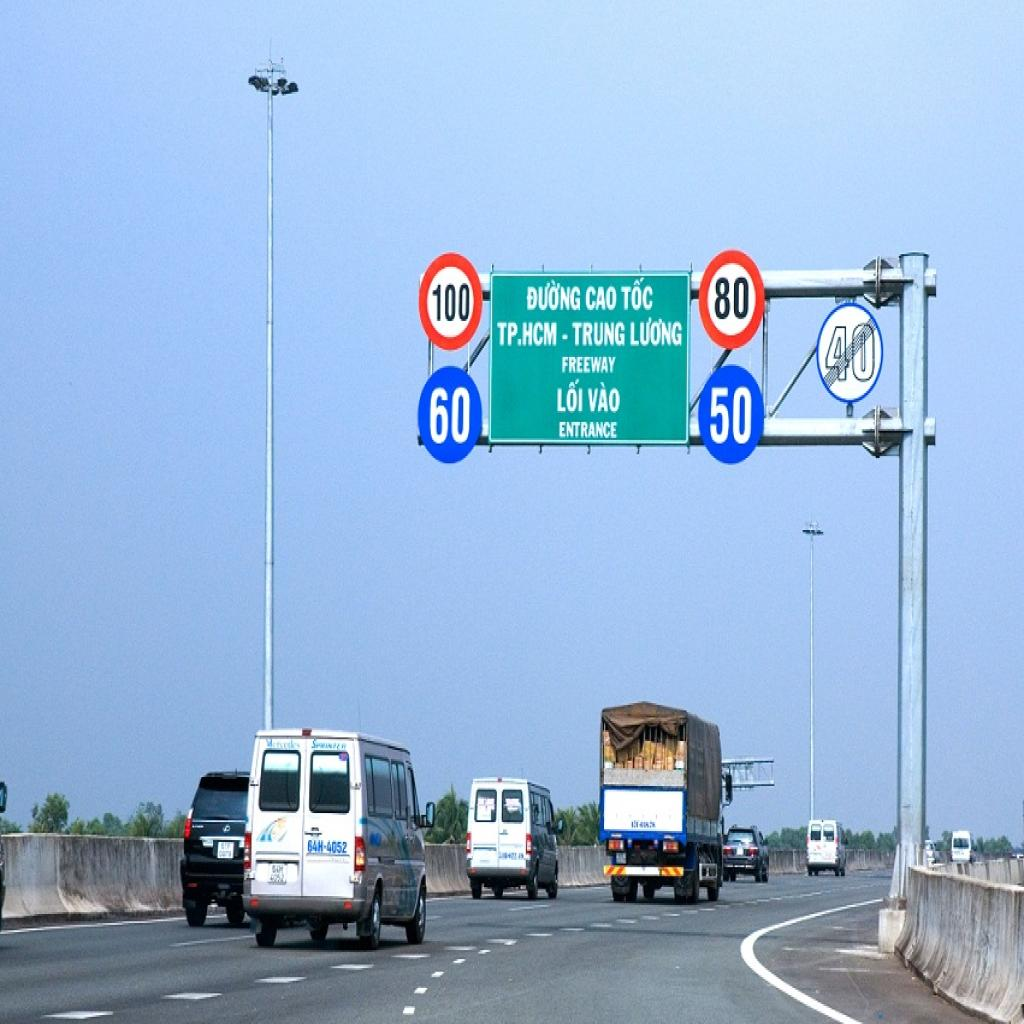text: (825, 323, 876, 384), (709, 384, 753, 447), (428, 388, 472, 447), (526, 280, 582, 316), (629, 317, 685, 352), (496, 321, 560, 350), (571, 319, 627, 352), (713, 276, 751, 323), (433, 283, 472, 325), (620, 276, 656, 314), (560, 355, 620, 377), (586, 380, 622, 415), (558, 422, 620, 442), (556, 378, 585, 414), (585, 285, 618, 314), (307, 838, 349, 856)
